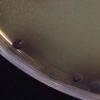black: (47, 69, 63, 83), (86, 78, 100, 94), (11, 38, 26, 51), (70, 71, 85, 84)
